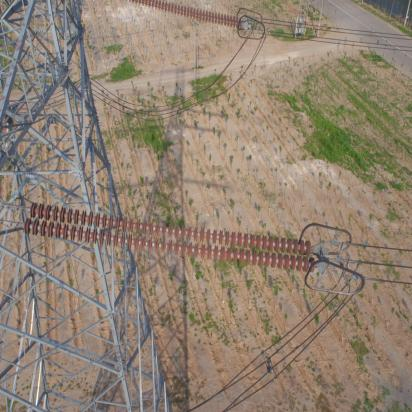insulator: (18, 202, 320, 274)
